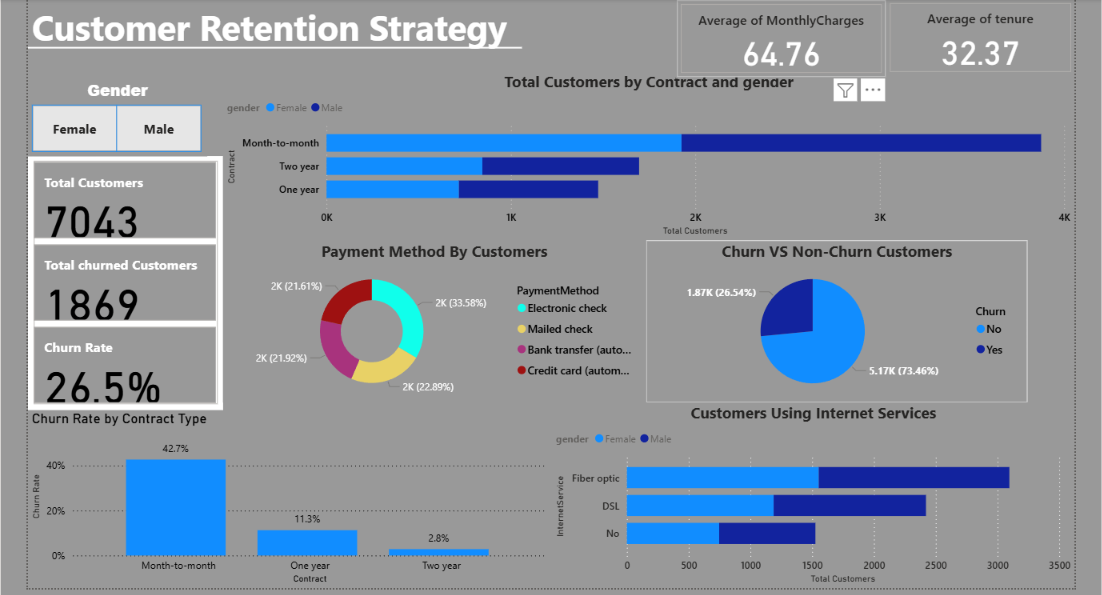

Layout of this report page (visuals, bound fields, positions):
{"tool":"powerbi","page":{"name":"Page 1","canvas":[1280,720],"ordinal":0},"visuals":[{"type":"cardVisual","fields":{"Data":["WA_Fn-UseC_-Telco-Customer-Churn.Total Customers","WA_Fn-UseC_-Telco-Customer-Churn.Count of customerID for Yes","WA_Fn-UseC_-Telco-Customer-Churn.Count of customerID divided by Count of customerID for Yes"]},"box":[0,192,238.5,310.6],"z":0},{"type":"advancedSlicerVisual","title":"Gender","fields":{"Values":["WA_Fn-UseC_-Telco-Customer-Churn.gender"]},"box":[0,97.8,218.9,94.2],"z":1000},{"type":"pieChart","title":"Churn VS Non-Churn Customers","fields":{"Y":["CountNonNull(WA_Fn-UseC_-Telco-Customer-Churn.Churn)"],"Category":["WA_Fn-UseC_-Telco-Customer-Churn.Churn"]},"box":[755.7,294.7,467.1,198.1],"z":2000},{"type":"barChart","fields":{"Category":["WA_Fn-UseC_-Telco-Customer-Churn.Contract"],"Y":["WA_Fn-UseC_-Telco-Customer-Churn.Total Customers"],"Series":["WA_Fn-UseC_-Telco-Customer-Churn.gender"]},"box":[238.5,88,1041.9,206.7],"z":3000},{"type":"donutChart","title":"Payment Method By Customers","fields":{"Category":["WA_Fn-UseC_-Telco-Customer-Churn.PaymentMethod"],"Y":["WA_Fn-UseC_-Telco-Customer-Churn.Total Customers"]},"box":[238.5,294.7,517.3,198.1],"z":4000},{"type":"textbox","box":[0,0,604.1,89.3],"z":5000},{"type":"shape","box":[0,29.3,604.1,59.9],"z":6000},{"type":"cardVisual","title":"Average Tenure Of Customers","fields":{"Data":["Avg(WA_Fn-UseC_-Telco-Customer-Churn.tenure)"]},"box":[1049.2,0,231.1,94.2],"z":7000},{"type":"cardVisual","title":"Average Of Monthly Charges","fields":{"Data":["Avg(WA_Fn-UseC_-Telco-Customer-Churn.MonthlyCharges)"]},"box":[793.6,1.2,255.6,94.2],"z":8000},{"type":"barChart","title":"Customers Using Internet Services","fields":{"Category":["WA_Fn-UseC_-Telco-Customer-Churn.InternetService"],"Y":["WA_Fn-UseC_-Telco-Customer-Churn.Total Customers"],"Series":["WA_Fn-UseC_-Telco-Customer-Churn.gender"]},"box":[640.8,492.8,639.5,227.4],"z":9000},{"type":"clusteredColumnChart","title":"Churn Rate by Contract Type","fields":{"Category":["WA_Fn-UseC_-Telco-Customer-Churn.Contract"],"Y":["WA_Fn-UseC_-Telco-Customer-Churn.Churn Rate"]},"box":[0,502.6,639.5,217.7],"z":9001}]}

Visuals, with their boxes on the page's 1280x720 design canvas (x1, y1, x2, y2). These are canvas units, not pixel positions in the 1102x595 screenshot, which may show the page scaled, cropped or inside an application window:
cardVisual - WA_Fn-UseC_-Telco-Customer-Churn.Total Customers x WA_Fn-UseC_-Telco-Customer-Churn.Count of customerID for Yes: 0 192 238 503
"Gender" advancedSlicerVisual: 0 98 219 192
"Churn VS Non-Churn Customers" pieChart: 756 295 1223 493
barChart - WA_Fn-UseC_-Telco-Customer-Churn.Contract x WA_Fn-UseC_-Telco-Customer-Churn.Total Customers: 238 88 1280 295
"Payment Method By Customers" donutChart: 238 295 756 493
textbox: 0 0 604 89
shape: 0 29 604 89
"Average Tenure Of Customers" cardVisual: 1049 0 1280 94
"Average Of Monthly Charges" cardVisual: 794 1 1049 95
"Customers Using Internet Services" barChart: 641 493 1280 720
"Churn Rate by Contract Type" clusteredColumnChart: 0 503 640 720
